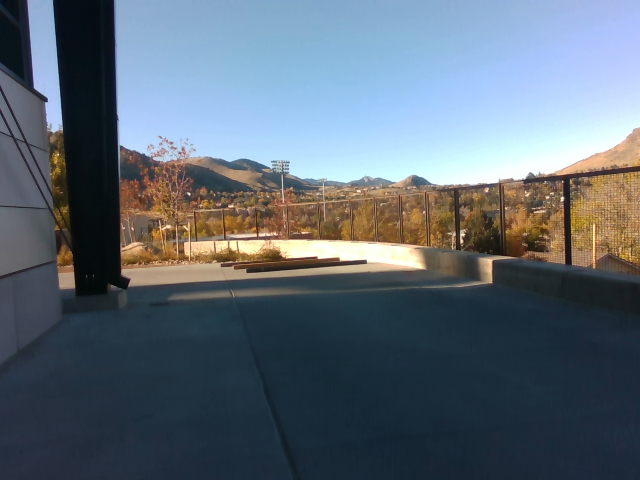Dunnage: (209, 255, 394, 275)
